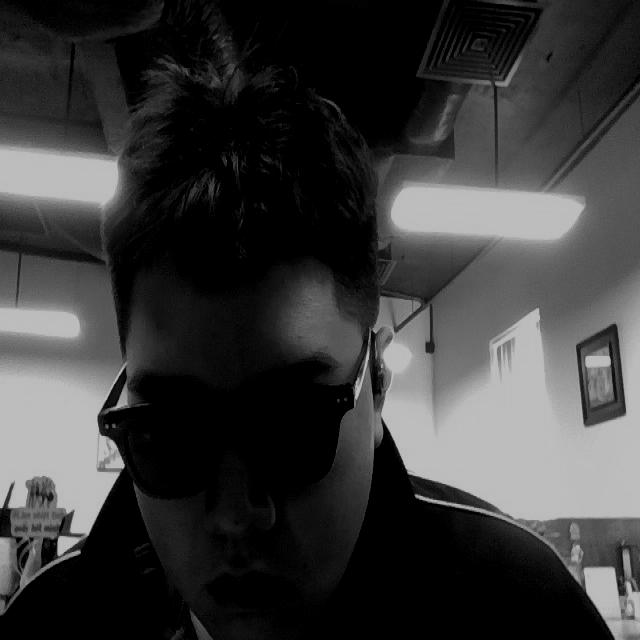fake: (107, 92, 387, 640)
real: (95, 388, 355, 496)
